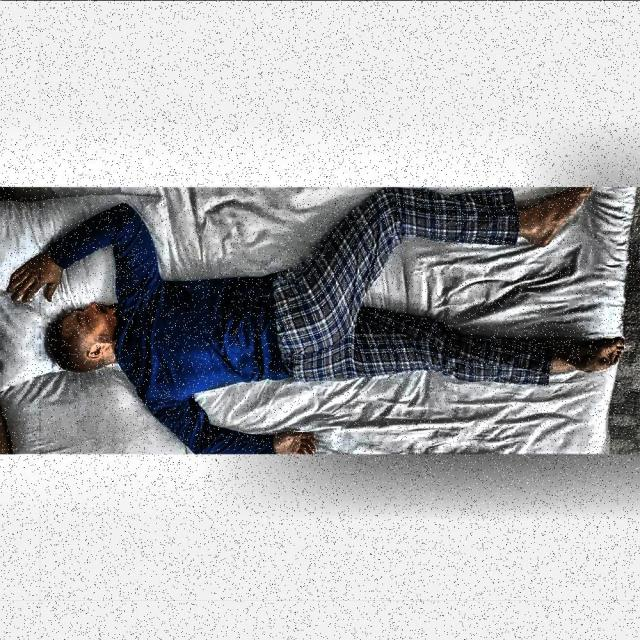Not_Supine: (8, 189, 622, 453)
